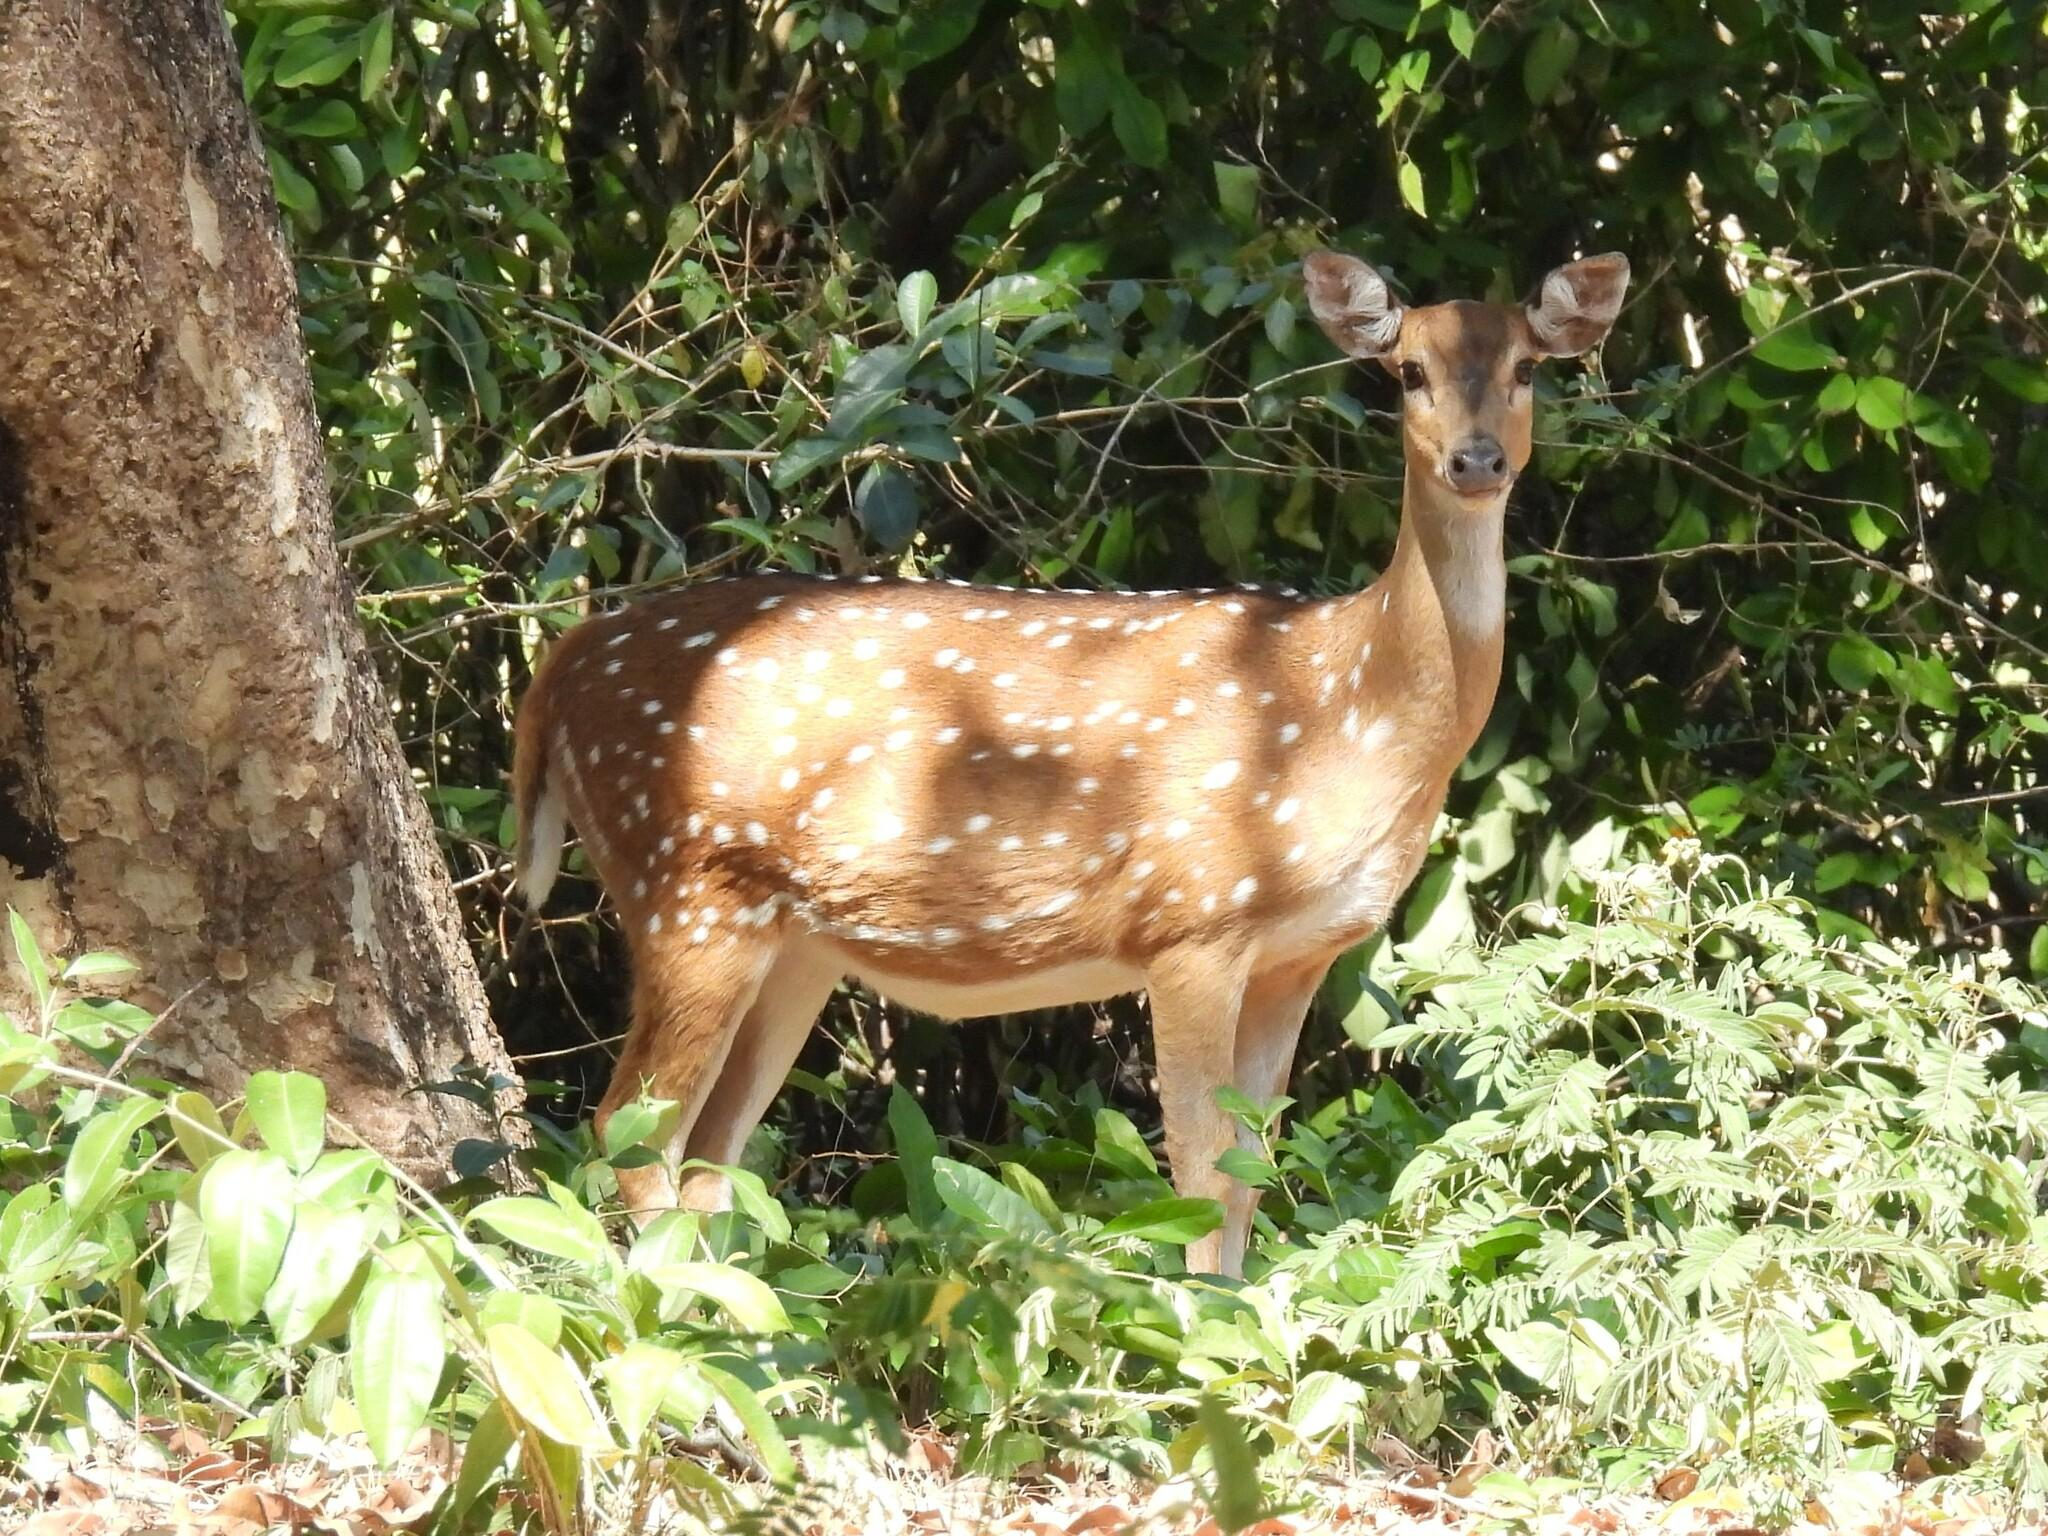Deer: (514, 252, 1629, 1271)
